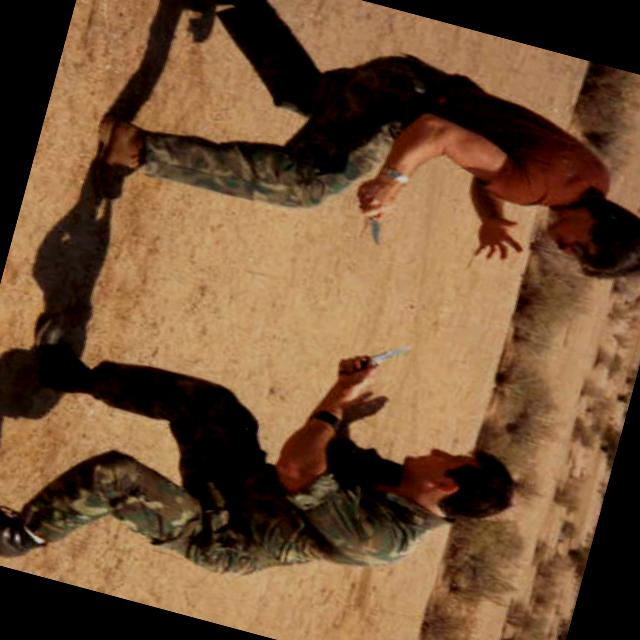knife: (330, 316, 434, 394), (342, 172, 404, 252)
